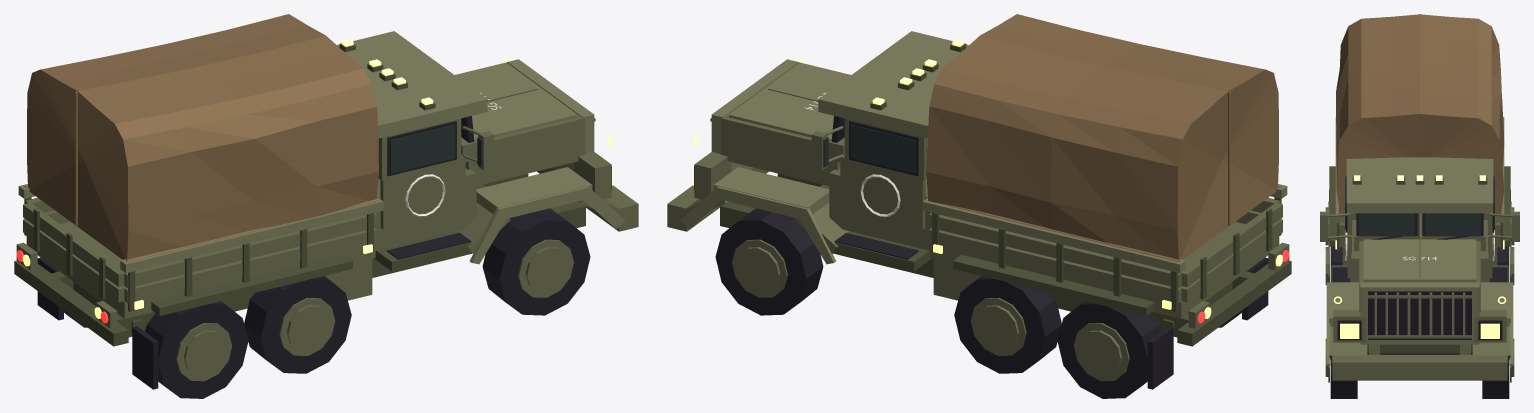
3 views of the same model, side by side, from view 1: azimuth 30°, elevation 25°; view 2: azimuth 150°, elevation 25°; view 3: azimuth 270°, elevation 25° (orthographic). The views are drawn at different scales.
Visible parts, largest first — view 1: body_pal_khakiSeam, body_pal_olive, body_pal_oliveLight, body_pal_oliveSeam, wheelFL_pal_uiDark, doorL_pal_olive, wheelML_pal_uiDark, wheelRL_pal_uiDark, body_pal_uiDark, tailgate_pal_olive, wheelFL_pal_olive, wheelRL_pal_olive (+4 smaller); view 2: body_pal_khakiSeam, body_pal_olive, body_pal_oliveLight, body_pal_oliveSeam, wheelFR_pal_uiDark, doorR_pal_olive, wheelMR_pal_uiDark, wheelRR_pal_uiDark, body_pal_uiDark, tailgate_pal_olive, wheelFR_pal_olive, wheelRR_pal_olive (+4 smaller); view 3: body_pal_khakiSeam, body_pal_oliveLight, body_pal_olive, body_pal_uiDark, body_pal_oliveSeam, body_pal_tealDark, doorL_pal_olive, doorR_pal_olive, lightsFront_emi_windowGlow, wheelFL_pal_uiDark, wheelFR_pal_uiDark, wheelML_pal_uiDark (+4 smaller).
Boxes of the visible parts, x1,y1,x2,y2 form: body_pal_khakiSeam: [24, 14, 378, 261]; body_pal_olive: [16, 62, 638, 328]; body_pal_oliveLight: [18, 31, 625, 272]; body_pal_oliveSeam: [14, 43, 585, 346]; wheelFL_pal_uiDark: [482, 208, 590, 315]; doorL_pal_olive: [378, 118, 494, 229]; wheelML_pal_uiDark: [244, 276, 351, 373]; wheelRL_pal_uiDark: [145, 301, 248, 398]; body_pal_uiDark: [37, 116, 611, 389]; tailgate_pal_olive: [23, 203, 124, 302]; wheelFL_pal_olive: [518, 239, 573, 297]; wheelRL_pal_olive: [176, 323, 232, 381]; body_pal_khakiSeam: [926, 14, 1281, 261]; body_pal_olive: [667, 62, 1289, 328]; body_pal_oliveLight: [680, 31, 1287, 272]; body_pal_oliveSeam: [720, 43, 1291, 346]; wheelFR_pal_uiDark: [715, 208, 823, 315]; doorR_pal_olive: [811, 118, 927, 229]; wheelMR_pal_uiDark: [954, 276, 1061, 373]; wheelRR_pal_uiDark: [1057, 301, 1160, 398]; body_pal_uiDark: [694, 116, 1268, 389]; tailgate_pal_olive: [1181, 203, 1282, 302]; wheelFR_pal_olive: [732, 239, 787, 297]; wheelRR_pal_olive: [1073, 323, 1129, 381]; body_pal_khakiSeam: [1336, 14, 1504, 216]; body_pal_oliveLight: [1326, 117, 1513, 365]; body_pal_olive: [1329, 213, 1510, 380]; body_pal_uiDark: [1329, 190, 1510, 354]; body_pal_oliveSeam: [1329, 166, 1510, 354]; body_pal_tealDark: [1359, 213, 1480, 236]; doorL_pal_olive: [1320, 211, 1352, 278]; doorR_pal_olive: [1487, 211, 1519, 278]; lightsFront_emi_windowGlow: [1333, 296, 1506, 338]; wheelFL_pal_uiDark: [1330, 360, 1357, 398]; wheelFR_pal_uiDark: [1482, 360, 1509, 398]; wheelML_pal_uiDark: [1330, 246, 1342, 281].
Bounding box in the file's own units: 6.88 × 3.57 × 2.9.
